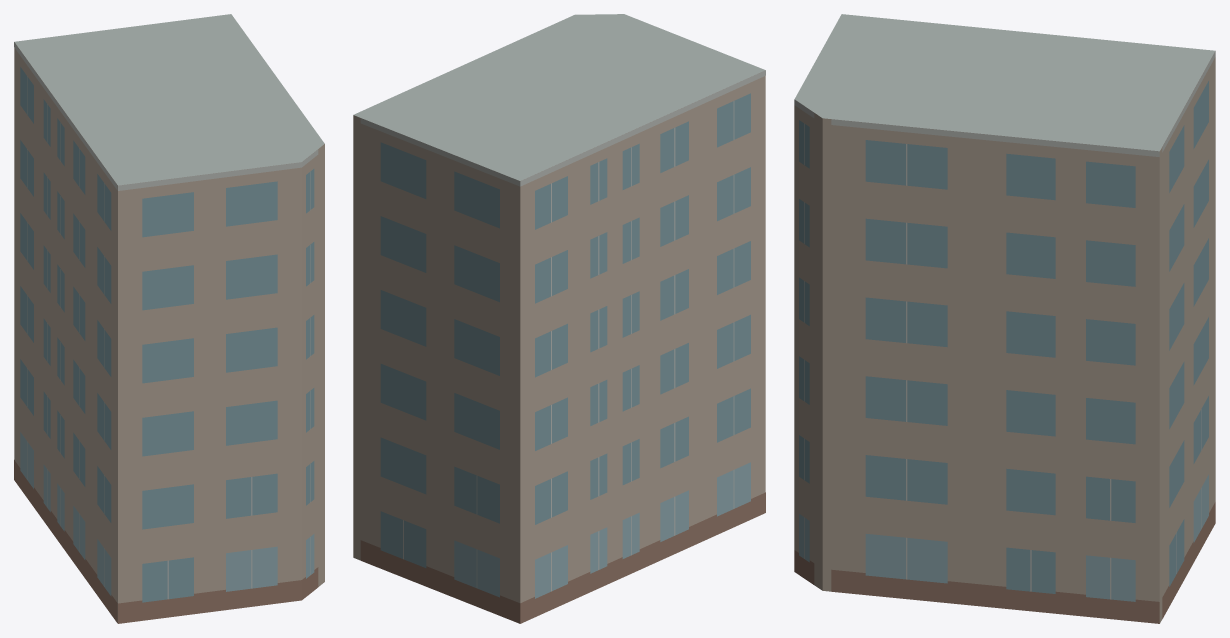
File: survey-upis-32734943.glb
3 views of the same model, side by side, from view 1: azimuth 30°, elevation 25°; view 2: azimuth 150°, elevation 25°; view 3: azimuth 270°, elevation 25° (orthographic). The views are drawn at different scales.
Parts seen in each view (by area): view 1: survey-upis-32734943.tmp; view 2: survey-upis-32734943.tmp; view 3: survey-upis-32734943.tmp.
Boxes of the visible parts, bbox=[...] form: survey-upis-32734943.tmp: bbox=[14, 14, 324, 623]; survey-upis-32734943.tmp: bbox=[353, 14, 765, 623]; survey-upis-32734943.tmp: bbox=[794, 14, 1215, 623].
Bounding box in the file's own units: 12.22 × 19.6 × 15.84.
